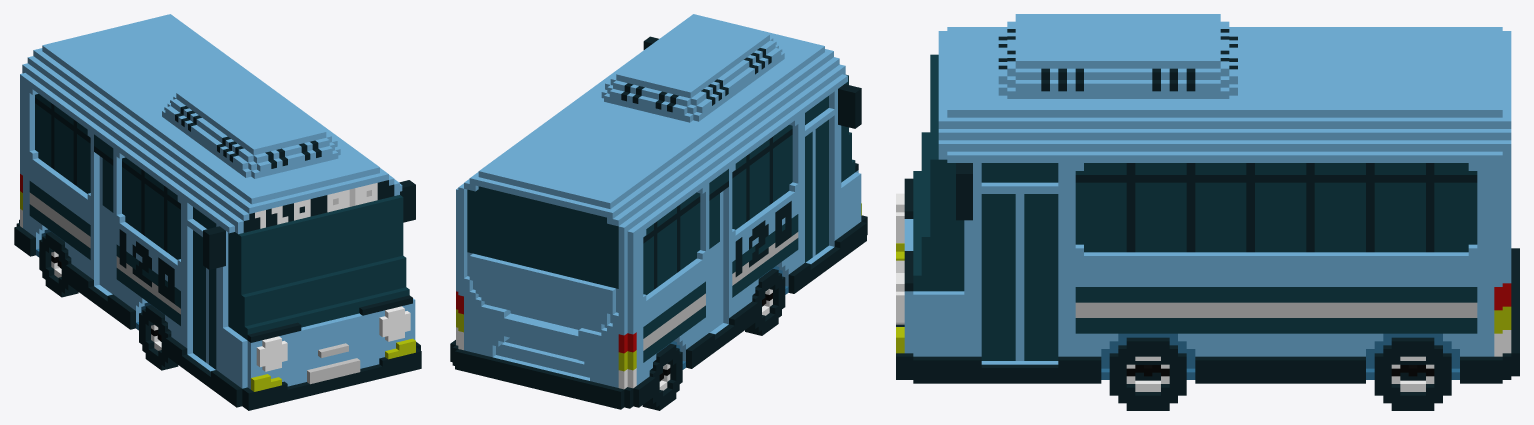
The model's file is bus.obj.
3 views of the same model, side by side, from view 1: azimuth 30°, elevation 25°; view 2: azimuth 150°, elevation 25°; view 3: azimuth 270°, elevation 25° (orthographic). The views are drawn at different scales.
Bounding box in the file's own units: 3.7 × 4.1 × 7.3.
Materials: 1 (1 with a texture image).
